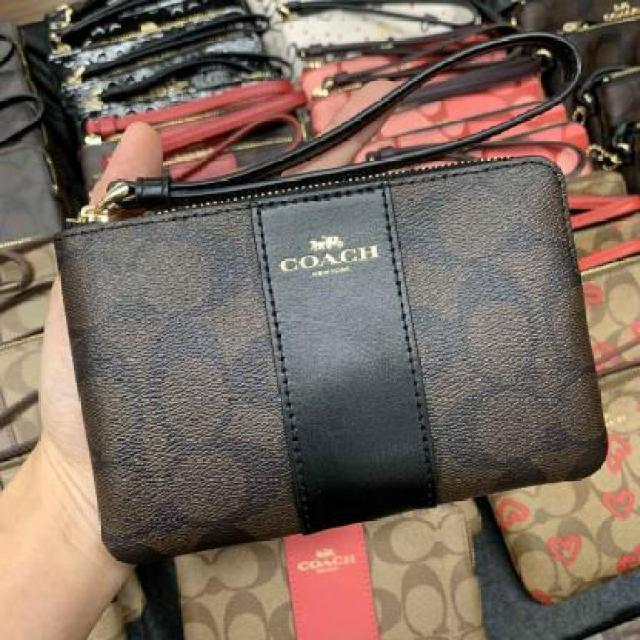Bag: (24, 58, 614, 572)
